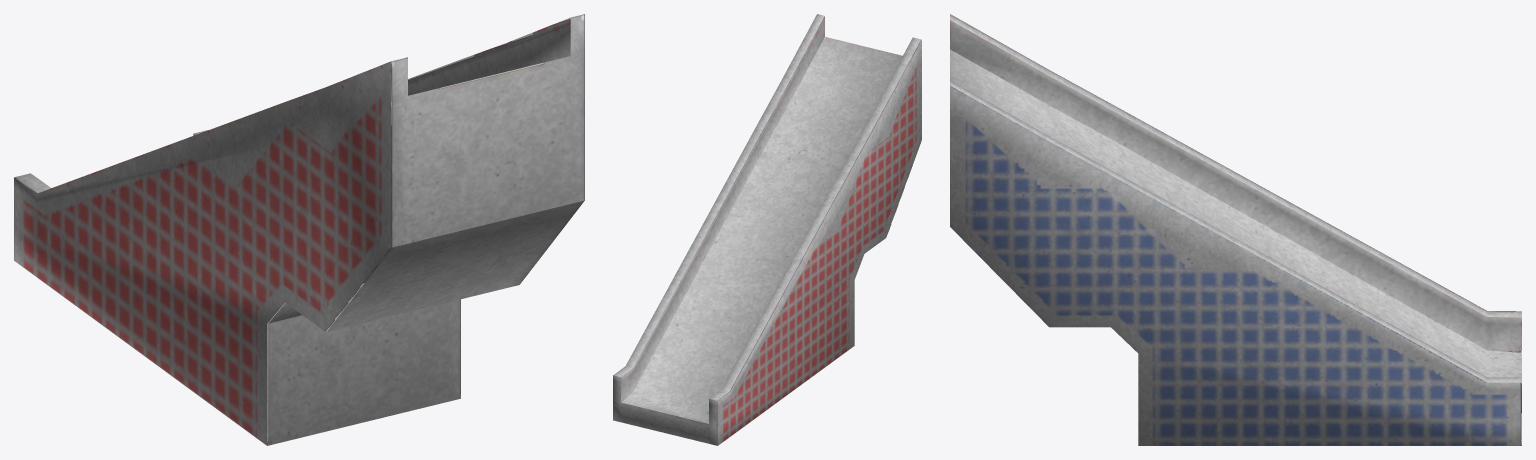
The model's file is DragonSlideRight.fbx.
3 renders of one model, left to right at view 1: azimuth 30°, elevation 25°; view 2: azimuth 150°, elevation 25°; view 3: azimuth 270°, elevation 25°, orthographic. The views are drawn at different scales.
Parts seen in each view (by area): view 1: slide_01.001; view 2: slide_01.001; view 3: slide_01.001.
Boxes of the visible parts, x1,y1,x2,y2 form: slide_01.001: [14, 14, 584, 445]; slide_01.001: [613, 14, 921, 445]; slide_01.001: [950, 14, 1521, 445].
Bounding box in the file's own units: 354 × 830 × 1193.
